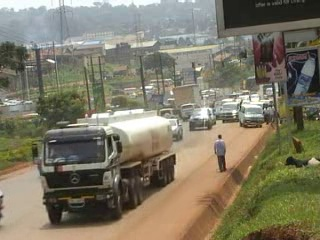Car: (188, 105, 211, 134), (162, 115, 184, 142), (211, 102, 226, 123), (204, 103, 217, 125)
